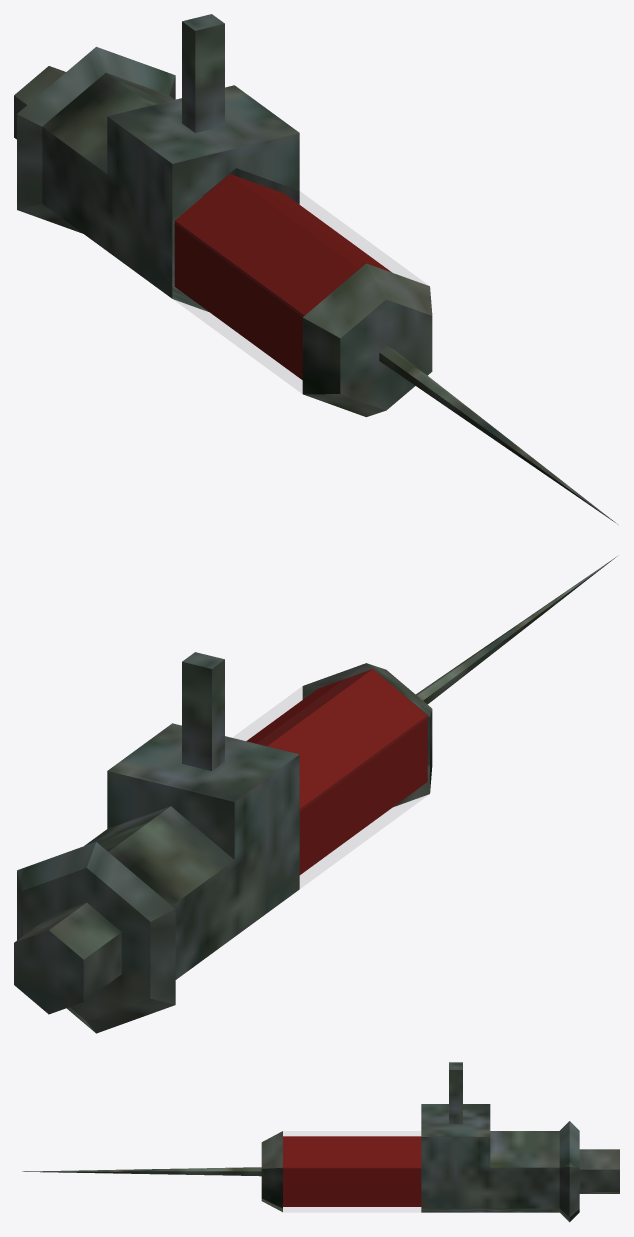
Rendered from BigSyringe.glb.
3 renders of one model, top to bottom at view 1: azimuth 30°, elevation 25°; view 2: azimuth 150°, elevation 25°; view 3: azimuth 270°, elevation 25°, orthographic. The views are drawn at different scales.
Parts seen in each view (by area): view 1: Cylinder; view 2: Cylinder; view 3: Cylinder.
Boxes of the visible parts, <box> form: Cylinder: <box>14,14,617,524</box>; Cylinder: <box>14,555,618,1033</box>; Cylinder: <box>22,1062,619,1222</box>.
Size of the model in its own units: 2.16 by 3.83 by 13.45.
3 materials, 1 textured.
